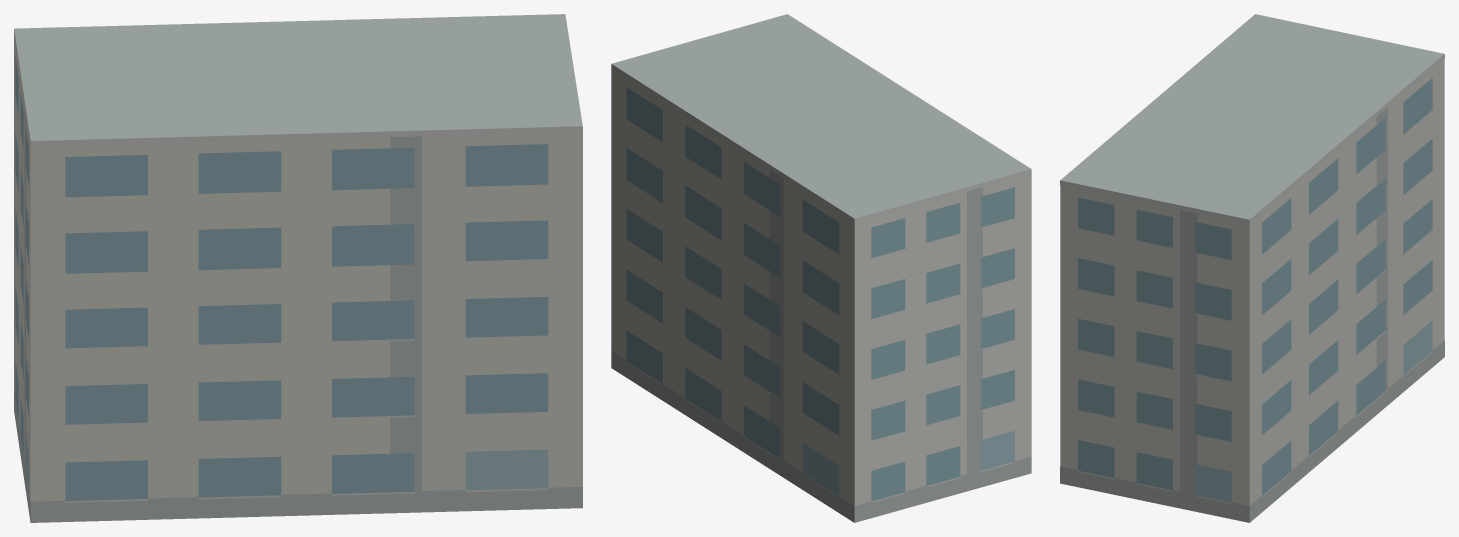
Rendered from survey-upis-32894250.glb.
The picture shows the model from 3 angles, left to right: view 1: azimuth 30°, elevation 25°; view 2: azimuth 150°, elevation 25°; view 3: azimuth 270°, elevation 25°; orthographic projection. The views are drawn at different scales.
Visible parts, largest first — view 1: survey-upis-32894250.tmp; view 2: survey-upis-32894250.tmp; view 3: survey-upis-32894250.tmp.
Boxes of the visible parts, bbox=[...] form: survey-upis-32894250.tmp: bbox=[14, 14, 582, 522]; survey-upis-32894250.tmp: bbox=[611, 14, 1031, 522]; survey-upis-32894250.tmp: bbox=[1060, 14, 1444, 522].
Bounding box in the file's own units: 23.15 × 15.9 × 18.29.
